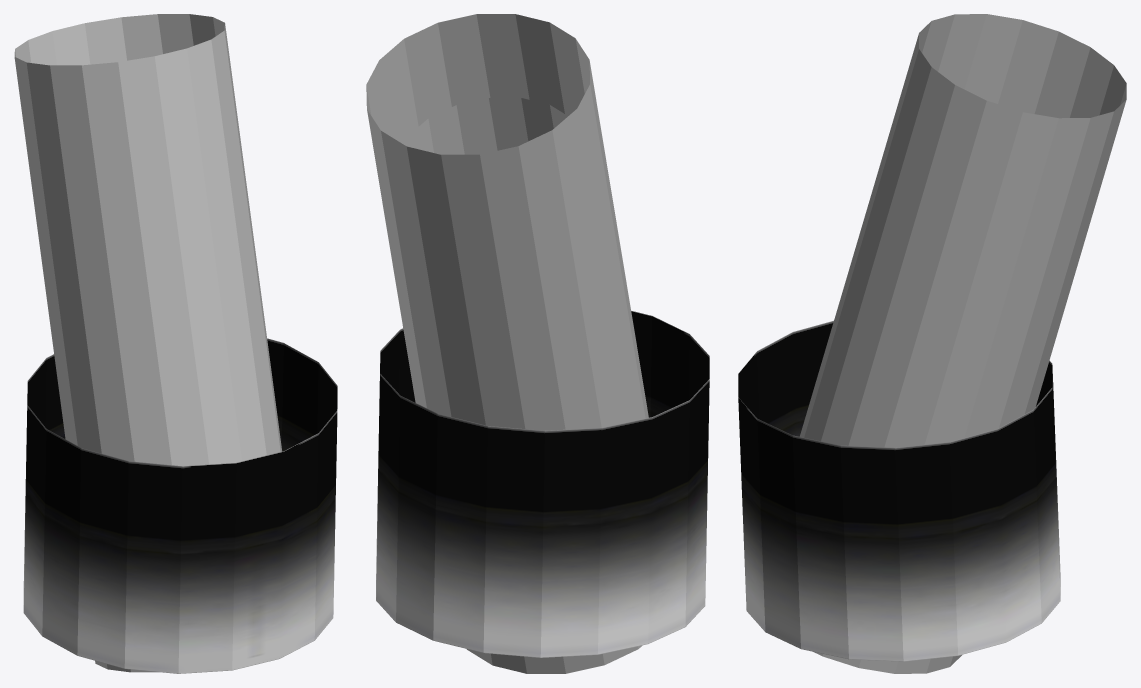
Rendered from effect_xinglingjinhua_donghua #4448198.fbx.
3 views of the same model, side by side, from view 1: azimuth 30°, elevation 25°; view 2: azimuth 150°, elevation 25°; view 3: azimuth 270°, elevation 25° (orthographic). The views are drawn at different scales.
Parts seen in each view (by area): view 1: effect_yuan_103_mo_UP, effect_yuan_103_mo (1); view 2: effect_yuan_103_mo_UP, effect_yuan_103_mo (1), effect_yuan_103_mo (2); view 3: effect_yuan_103_mo_UP, effect_yuan_103_mo (1).
Boxes of the visible parts, box(x1,y1,x2,y2) form: effect_yuan_103_mo_UP: box(14, 14, 282, 672); effect_yuan_103_mo (1): box(23, 338, 337, 673); effect_yuan_103_mo_UP: box(366, 14, 648, 673); effect_yuan_103_mo (1): box(376, 311, 709, 657); effect_yuan_103_mo (2): box(403, 97, 567, 154); effect_yuan_103_mo_UP: box(799, 14, 1126, 673); effect_yuan_103_mo (1): box(738, 320, 1060, 661).
Bounding box in the file's own units: 3.56 × 7.46 × 4.33.
